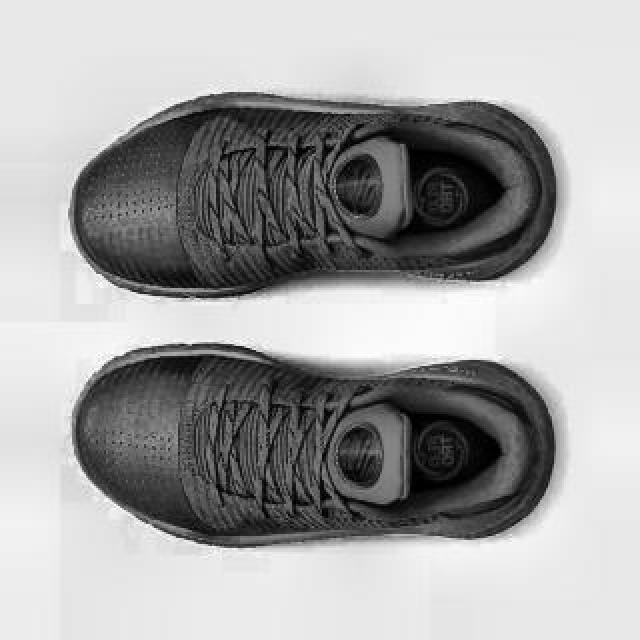shoe: (71, 91, 559, 299), (71, 340, 563, 546)
